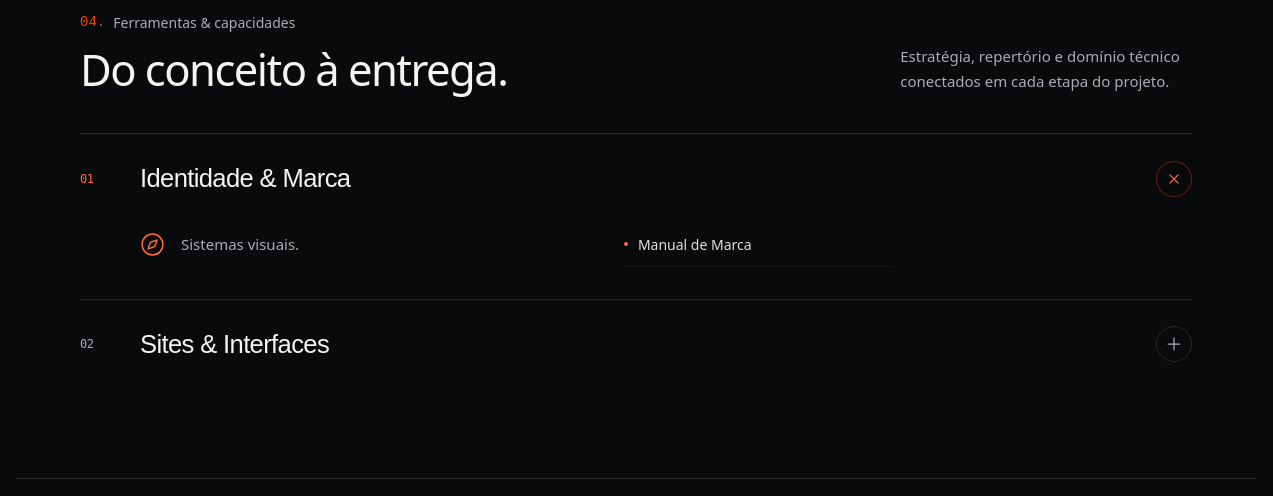
Scenario: opens only the selected capability and exposes its accessible disclosure state
The image size is (1273, 496).
Later steps or results of the test are not shown.
Check: the element named "Identidade & Marca" is shown, box [140, 223, 894, 267]
Click the button "02 Sites & Interfaces": [235, 344] box [80, 300, 1192, 388]
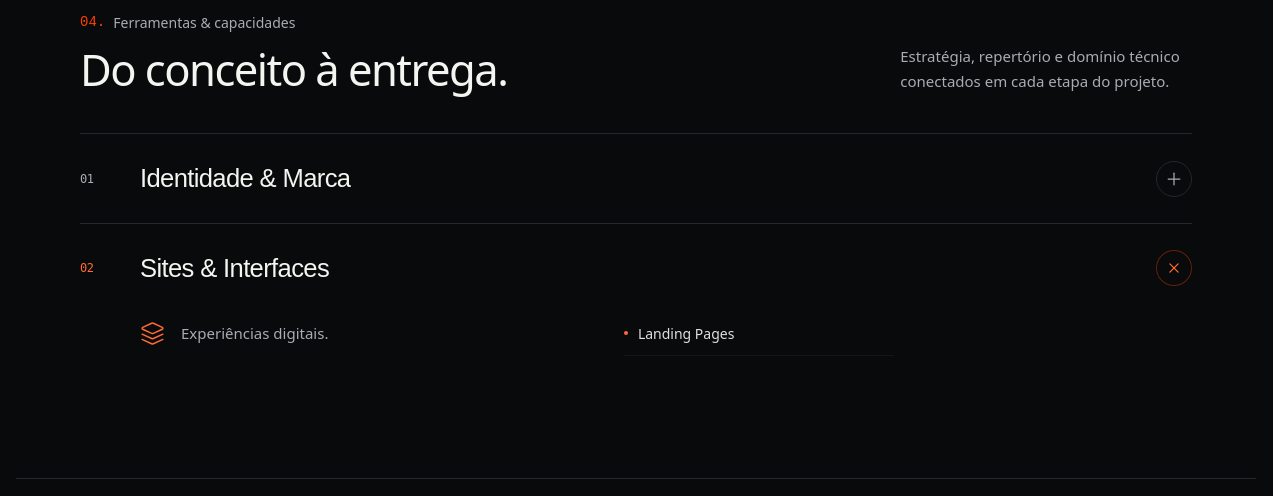
Check: the button "01 Identidade & Marca" is collapsed, box [80, 134, 1192, 223]
Check: the button "02 Sites & Interfaces" is expanded, box [80, 224, 1192, 312]
Check: the element named "Sites & Interfaces" shows "Landing Pages", box [638, 324, 734, 343]
